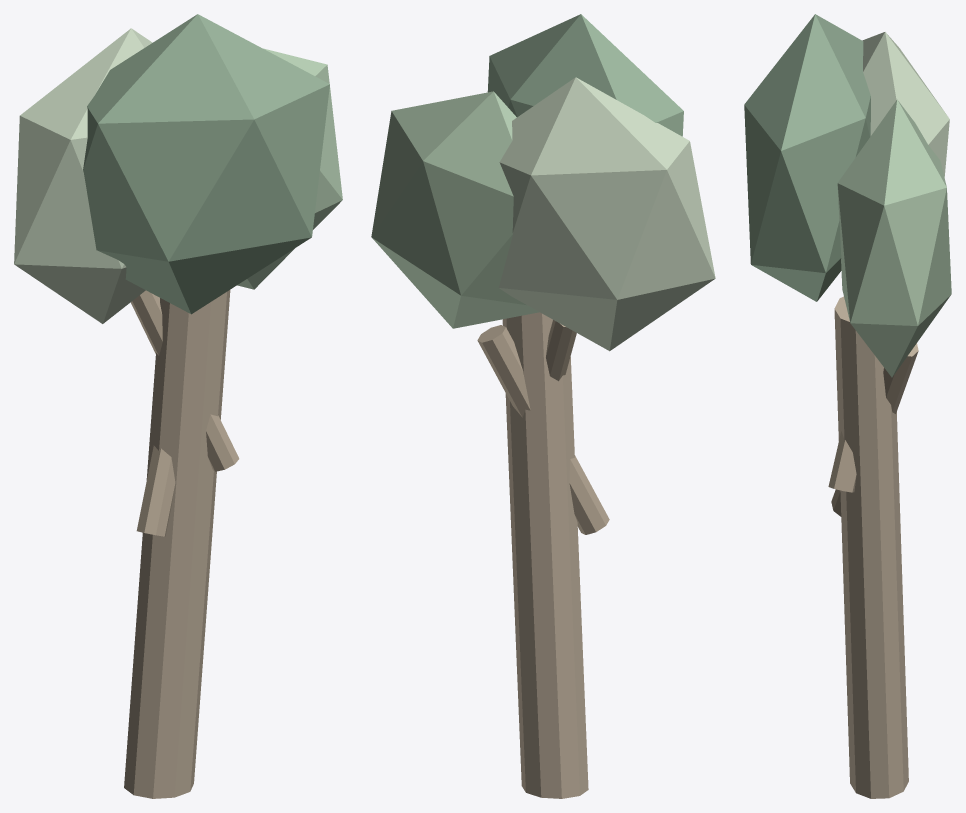
Rendered from TREE_EUCALYPTUS_001_LOD_GAMEPLAY.glb.
3 views of the same model, side by side, from view 1: azimuth 30°, elevation 25°; view 2: azimuth 150°, elevation 25°; view 3: azimuth 270°, elevation 25° (orthographic). The views are drawn at different scales.
Parts seen in each view (by area): view 1: TREE_EUCALYPTUS_001_CANOPY_001_C_LOD_GAMEPLAY, TREE_EUCALYPTUS_001_TRUNK_001_LOD_GAMEPLAY, TREE_EUCALYPTUS_001_CANOPY_001_A_LOD_GAMEPLAY, TREE_EUCALYPTUS_001_CANOPY_001_B_LOD_GAMEPLAY, TREE_EUCALYPTUS_001_BRANCH_LARGE_001_B_LOD_GAMEPLAY, TREE_EUCALYPTUS_001_BRANCH_LARGE_001_A_LOD_GAMEPLAY; view 2: TREE_EUCALYPTUS_001_CANOPY_001_A_LOD_GAMEPLAY, TREE_EUCALYPTUS_001_TRUNK_001_LOD_GAMEPLAY, TREE_EUCALYPTUS_001_CANOPY_001_B_LOD_GAMEPLAY, TREE_EUCALYPTUS_001_CANOPY_001_C_LOD_GAMEPLAY, TREE_EUCALYPTUS_001_BRANCH_LARGE_001_A_LOD_GAMEPLAY, TREE_EUCALYPTUS_001_BRANCH_LARGE_001_B_LOD_GAMEPLAY; view 3: TREE_EUCALYPTUS_001_TRUNK_001_LOD_GAMEPLAY, TREE_EUCALYPTUS_001_CANOPY_001_C_LOD_GAMEPLAY, TREE_EUCALYPTUS_001_CANOPY_001_B_LOD_GAMEPLAY, TREE_EUCALYPTUS_001_CANOPY_001_A_LOD_GAMEPLAY, TREE_EUCALYPTUS_001_BRANCH_LARGE_001_A_LOD_GAMEPLAY, TREE_EUCALYPTUS_001_BRANCH_LARGE_001_B_LOD_GAMEPLAY.
Part boxes in pixels (left/top/right/bottom): TREE_EUCALYPTUS_001_CANOPY_001_C_LOD_GAMEPLAY: left=83, top=14, right=329, bottom=314; TREE_EUCALYPTUS_001_TRUNK_001_LOD_GAMEPLAY: left=124, top=290, right=230, bottom=798; TREE_EUCALYPTUS_001_CANOPY_001_A_LOD_GAMEPLAY: left=14, top=28, right=152, bottom=323; TREE_EUCALYPTUS_001_CANOPY_001_B_LOD_GAMEPLAY: left=237, top=48, right=342, bottom=289; TREE_EUCALYPTUS_001_BRANCH_LARGE_001_B_LOD_GAMEPLAY: left=130, top=290, right=239, bottom=471; TREE_EUCALYPTUS_001_BRANCH_LARGE_001_A_LOD_GAMEPLAY: left=136, top=445, right=175, bottom=536; TREE_EUCALYPTUS_001_CANOPY_001_A_LOD_GAMEPLAY: left=498, top=77, right=715, bottom=351; TREE_EUCALYPTUS_001_TRUNK_001_LOD_GAMEPLAY: left=502, top=312, right=588, bottom=798; TREE_EUCALYPTUS_001_CANOPY_001_B_LOD_GAMEPLAY: left=371, top=91, right=539, bottom=328; TREE_EUCALYPTUS_001_CANOPY_001_C_LOD_GAMEPLAY: left=487, top=14, right=683, bottom=136; TREE_EUCALYPTUS_001_BRANCH_LARGE_001_A_LOD_GAMEPLAY: left=477, top=325, right=609, bottom=534; TREE_EUCALYPTUS_001_BRANCH_LARGE_001_B_LOD_GAMEPLAY: left=546, top=320, right=576, bottom=381; TREE_EUCALYPTUS_001_TRUNK_001_LOD_GAMEPLAY: left=834, top=296, right=908, bottom=798; TREE_EUCALYPTUS_001_CANOPY_001_C_LOD_GAMEPLAY: left=744, top=14, right=870, bottom=301; TREE_EUCALYPTUS_001_CANOPY_001_B_LOD_GAMEPLAY: left=837, top=99, right=951, bottom=377; TREE_EUCALYPTUS_001_CANOPY_001_A_LOD_GAMEPLAY: left=862, top=32, right=949, bottom=176; TREE_EUCALYPTUS_001_BRANCH_LARGE_001_A_LOD_GAMEPLAY: left=831, top=343, right=918, bottom=516; TREE_EUCALYPTUS_001_BRANCH_LARGE_001_B_LOD_GAMEPLAY: left=828, top=431, right=856, bottom=492.
Bounding box in the file's own units: 2.28 × 5.21 × 1.27.
